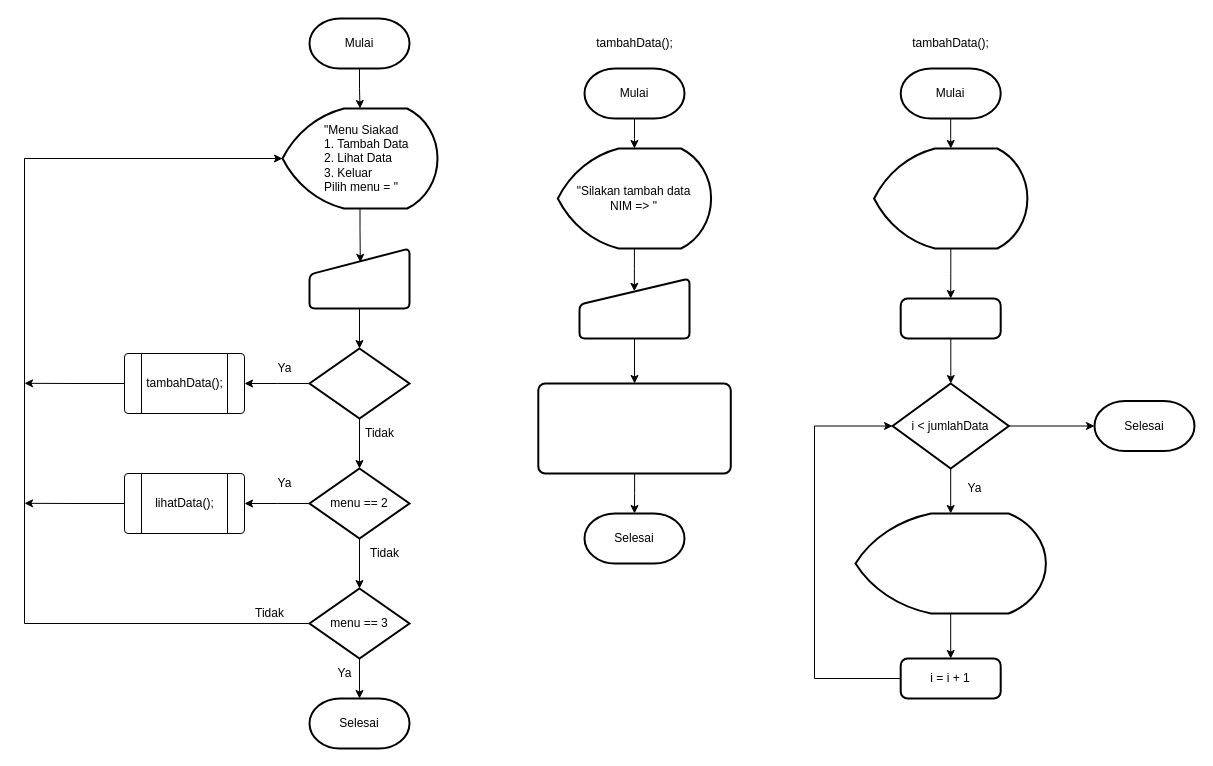
Some shapes in this 1213 by 766 pixel diagram are drawn without their labels. The shapes that lost their labels are listed below. From the top down, each one's centre as x and y in pixels, then its label:
the point at 950,198: "Berikut data Anda"
the point at 359,278: menu
the point at 634,308: nim, nama
the point at 950,318: i = 0
the point at 359,383: menu == 1
the point at 634,428: mahasiswa[jumlahData].setNim() mahasiswa[jumlahData].setNama() jumlahData++
the point at 950,563: mahasiswa[i].getNim() mahasiswa[i].getNama()
